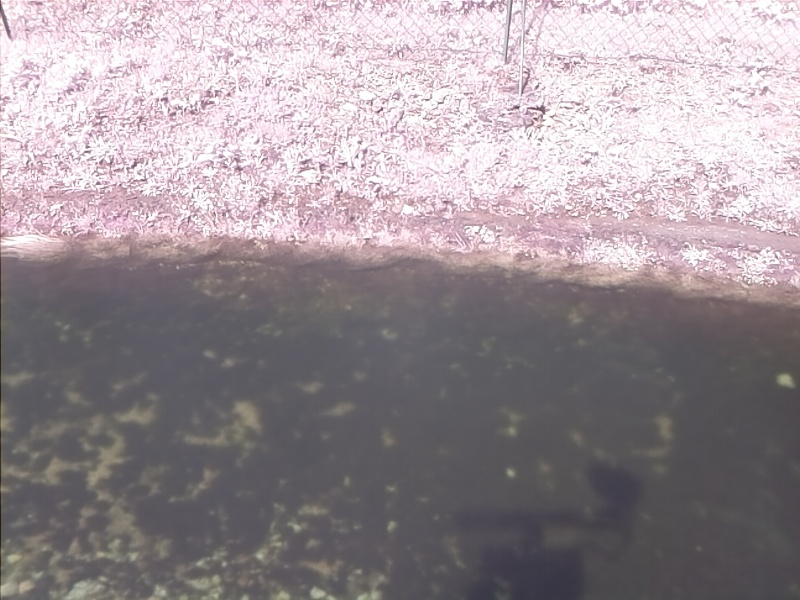Water: (2, 234, 799, 600)
